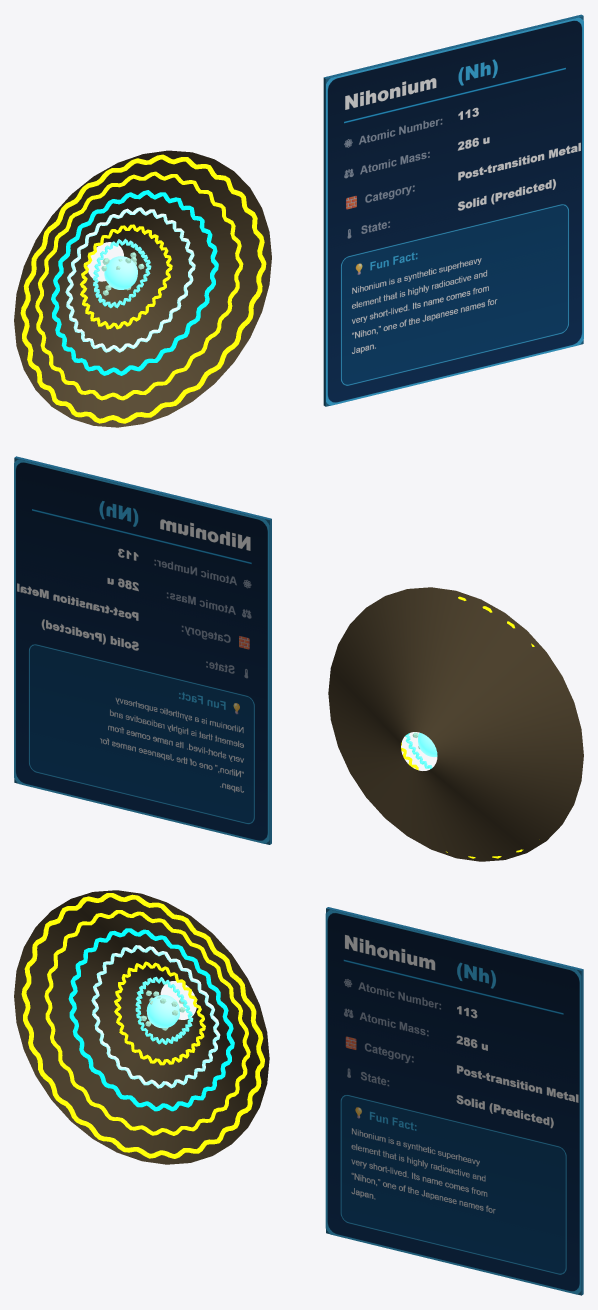
Rendered from nihonium.glb.
3 views of the same model, one above another, from view 1: azimuth 30°, elevation 25°; view 2: azimuth 150°, elevation 25°; view 3: azimuth 330°, elevation 25° (orthographic).
Visible parts, largest first — view 1: Mesh_9, Mesh_0, Mesh_1, Mesh_2, Mesh_3, Mesh_4, Mesh_11, Mesh_5, Mesh_6, Mesh_7; view 2: Mesh_10, Mesh_0, Mesh_11; view 3: Mesh_9, Mesh_0, Mesh_1, Mesh_2, Mesh_3, Mesh_4, Mesh_11, Mesh_5, Mesh_6, Mesh_7.
Boxes of the visible parts, <box> form: Mesh_9: <box>326,17,583,405</box>; Mesh_0: <box>14,150,271,427</box>; Mesh_1: <box>20,154,266,423</box>; Mesh_2: <box>35,171,243,400</box>; Mesh_3: <box>51,190,218,375</box>; Mesh_4: <box>65,207,195,352</box>; Mesh_11: <box>323,14,583,406</box>; Mesh_5: <box>80,224,172,329</box>; Mesh_6: <box>93,238,151,308</box>; Mesh_7: <box>104,256,137,289</box>; Mesh_10: <box>14,459,269,843</box>; Mesh_0: <box>328,587,583,861</box>; Mesh_11: <box>14,456,271,844</box>; Mesh_9: <box>325,909,581,1294</box>; Mesh_0: <box>14,890,269,1164</box>; Mesh_1: <box>21,893,264,1158</box>; Mesh_2: <box>44,910,250,1135</box>; Mesh_3: <box>68,928,234,1111</box>; Mesh_4: <box>91,945,220,1088</box>; Mesh_11: <box>326,907,583,1295</box>; Mesh_5: <box>114,961,205,1065</box>; Mesh_6: <box>135,976,193,1044</box>; Mesh_7: <box>146,994,179,1028</box>.
Size of the model in its own units: 2.79 by 1.53 by 0.3213.
12 materials, 2 textured.
